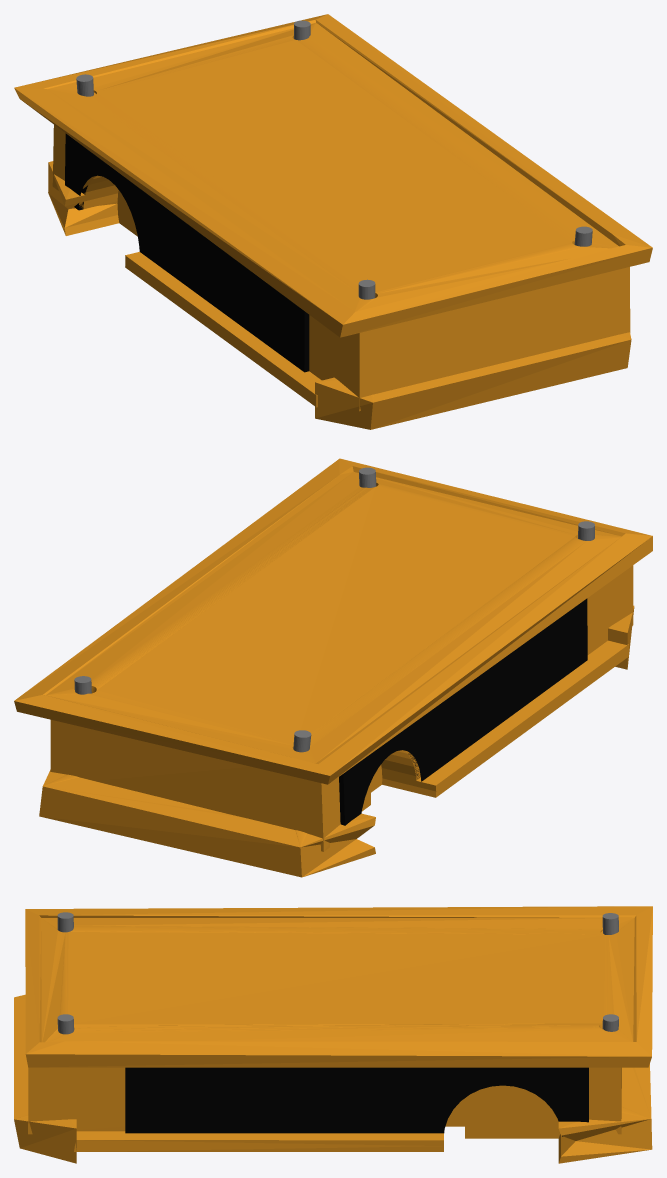
The model's file is chassis.dae.
3 views of the same model, one above another, from view 1: azimuth 30°, elevation 25°; view 2: azimuth 150°, elevation 25°; view 3: azimuth 270°, elevation 25° (orthographic). The views are drawn at different scales.
Parts seen in each view (by area): view 1: base; view 2: base; view 3: base.
Boxes of the visible parts, x1,y1,x2,y2 form: base: (14, 14, 652, 429); base: (14, 458, 652, 877); base: (14, 906, 652, 1163).
Size of the model in its own units: 1.04 by 1.9 by 0.4068.
